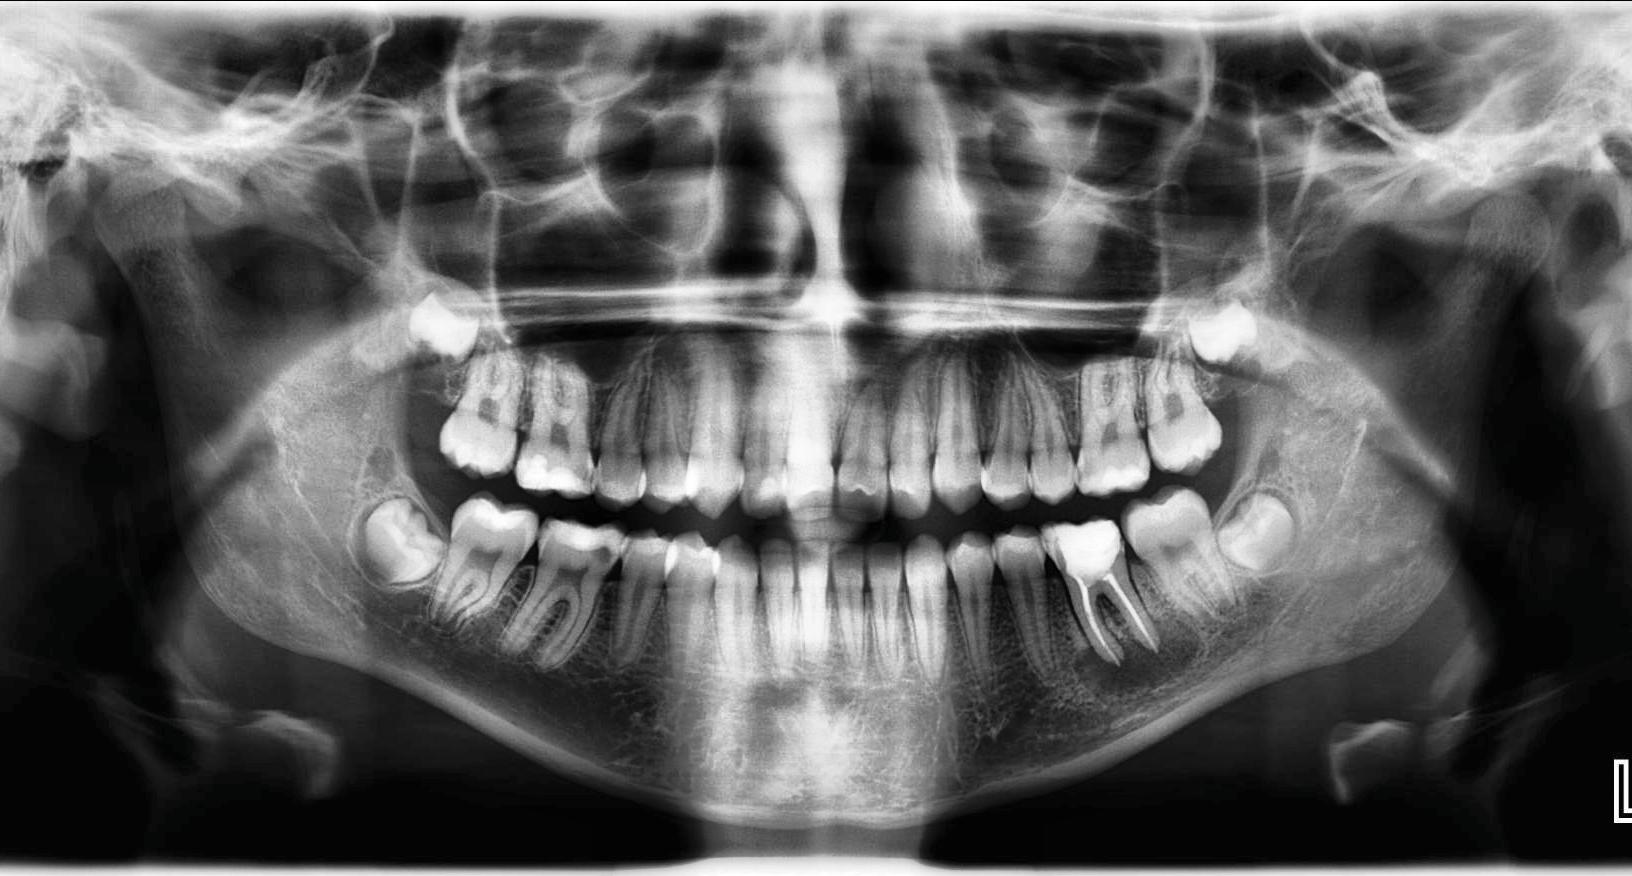radikuler: (1072, 612, 1210, 704)
